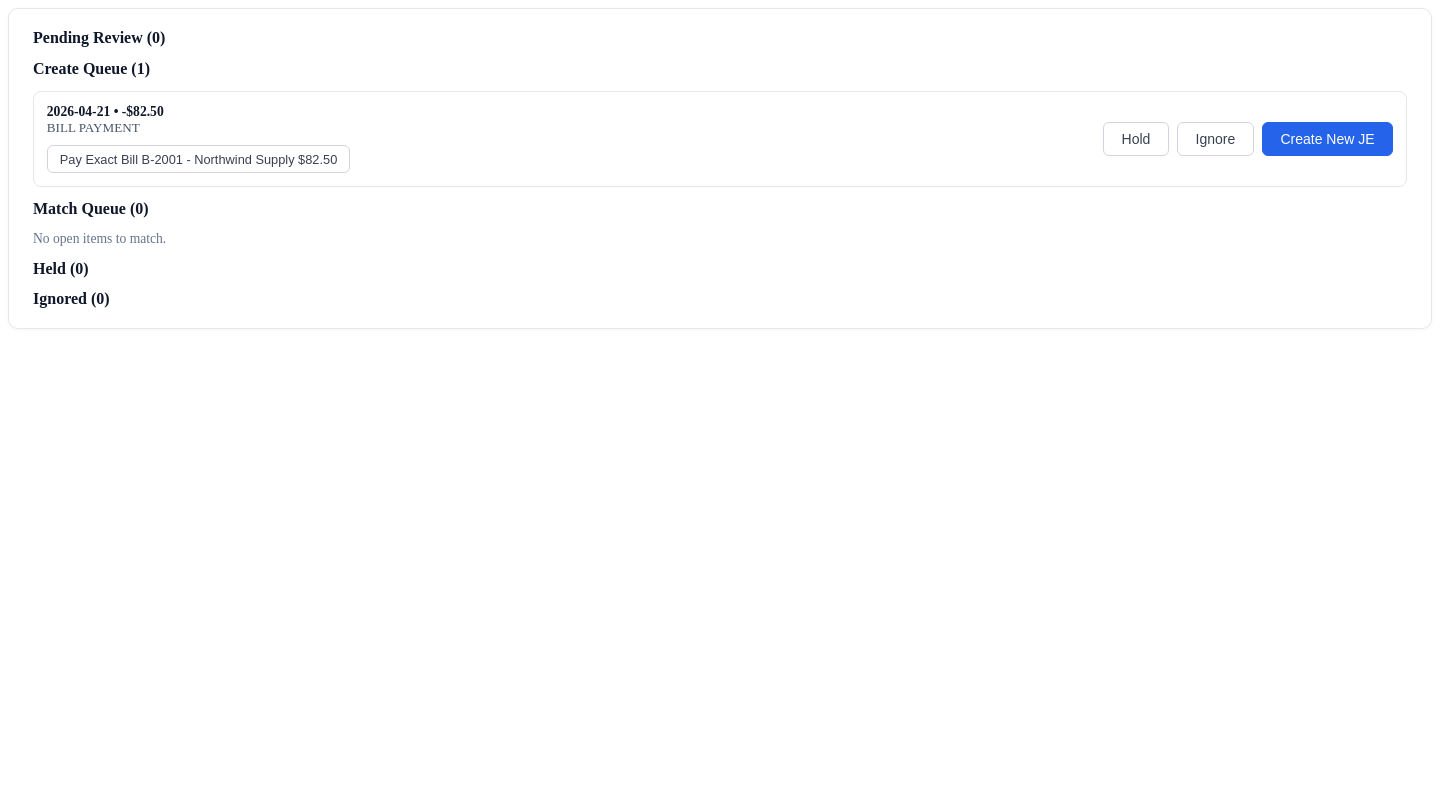
Test: BankFeedMatchTab › loads bill suggestions and submits pay-bill payload from create queue row
The width and height of the screenshot is (1440, 810).
Click the button "Pay Exact Bill B-2001 - Northwind Supply $82.50".
click(199, 159)  # box [47, 145, 350, 173]
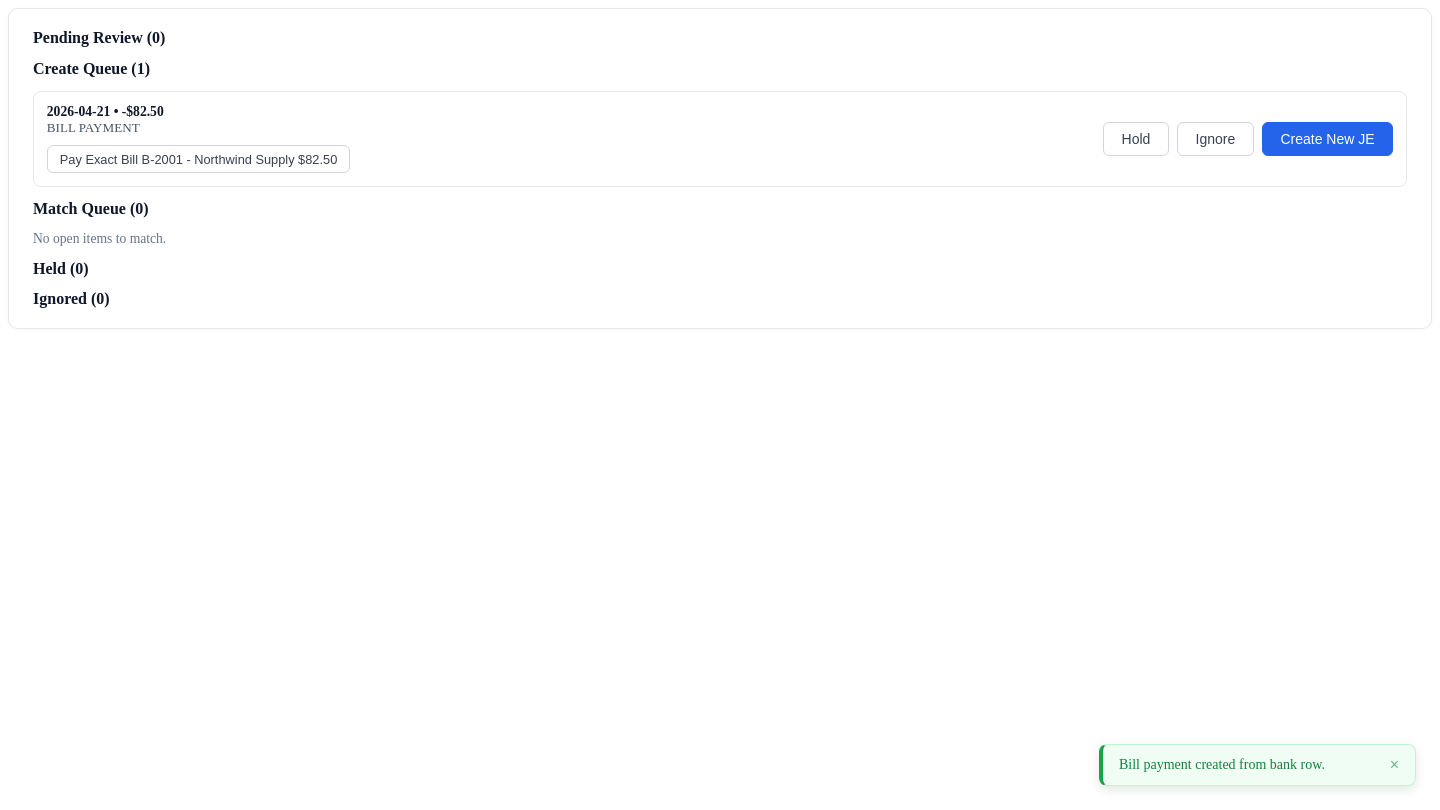
Now the text "Bill payment created from bank row." is shown, box [1119, 757, 1325, 772]
